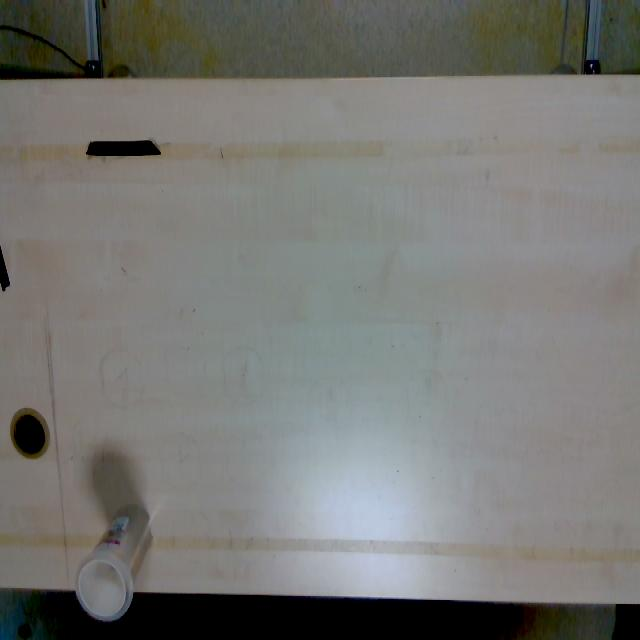cups: (74, 501, 154, 622)
